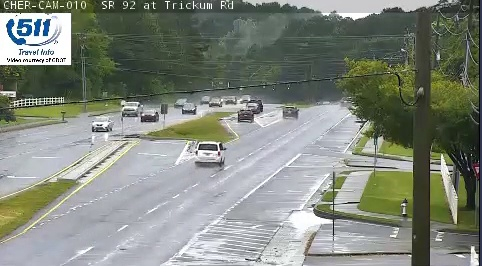car: (194, 142, 225, 164), (237, 109, 254, 123), (282, 106, 299, 117)
